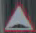Speed Breaker ahead: (4, 0, 34, 32)
